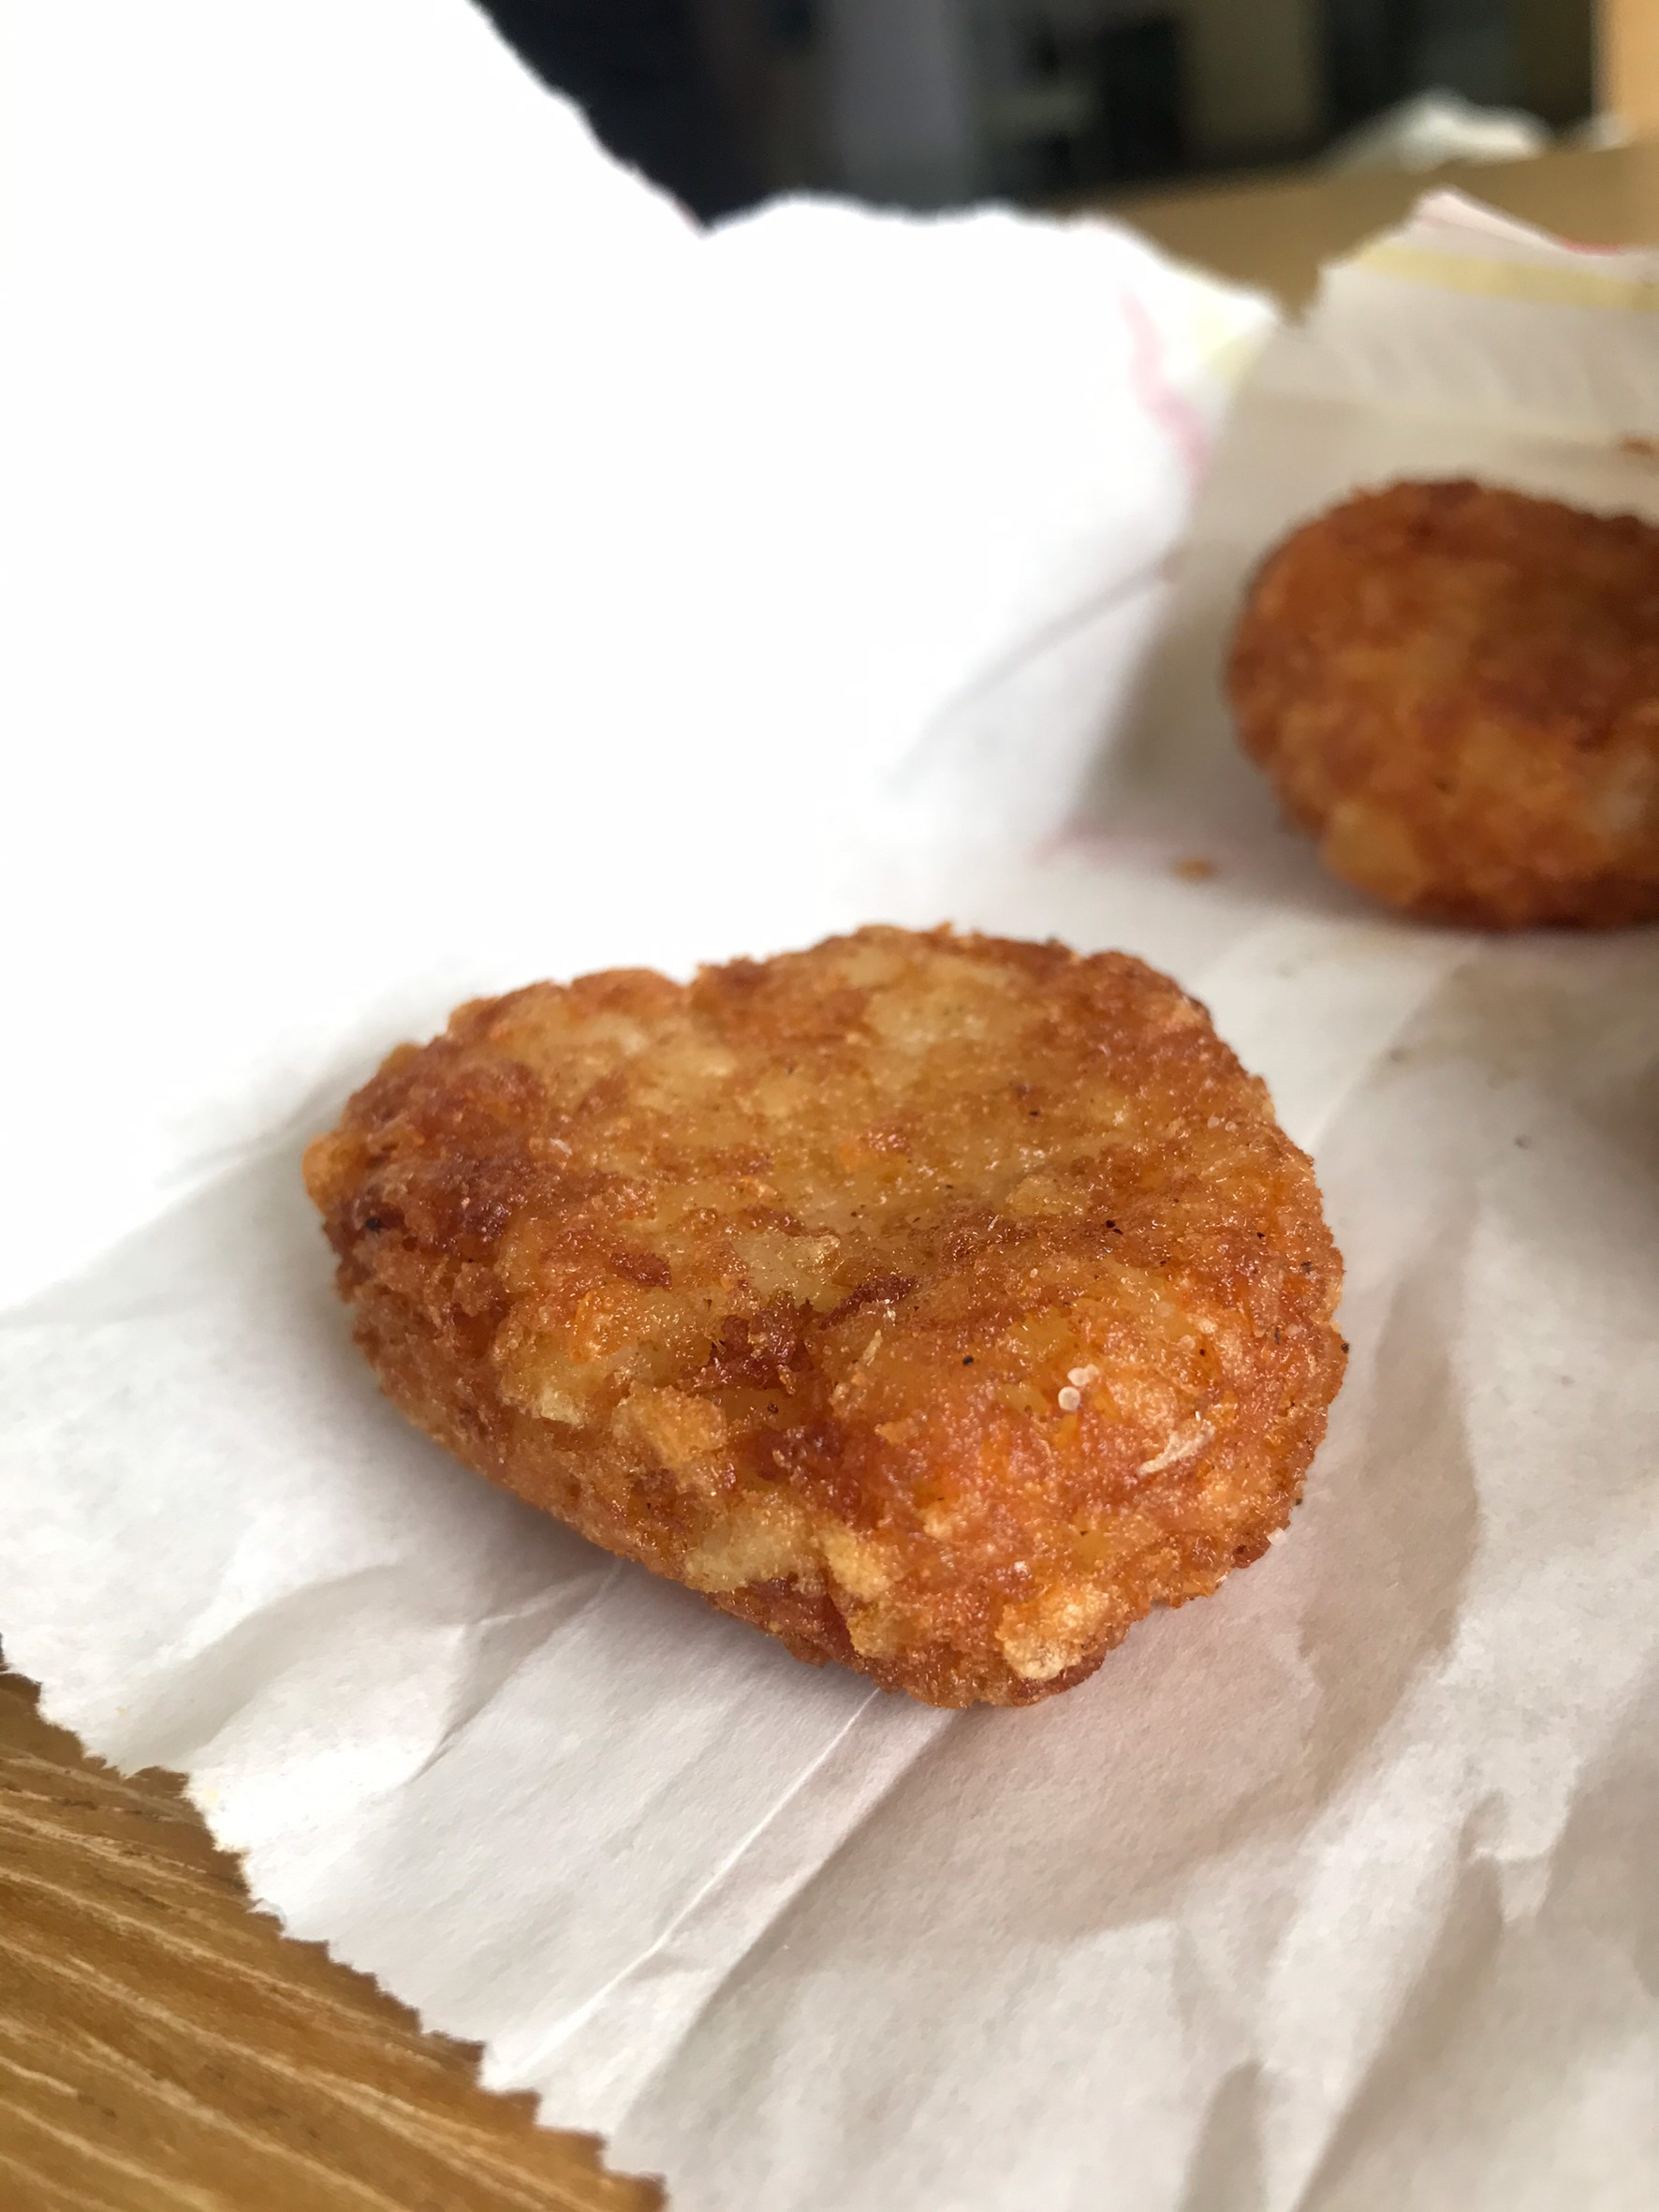triangle_hash_brown: (312, 906, 1366, 1706)
